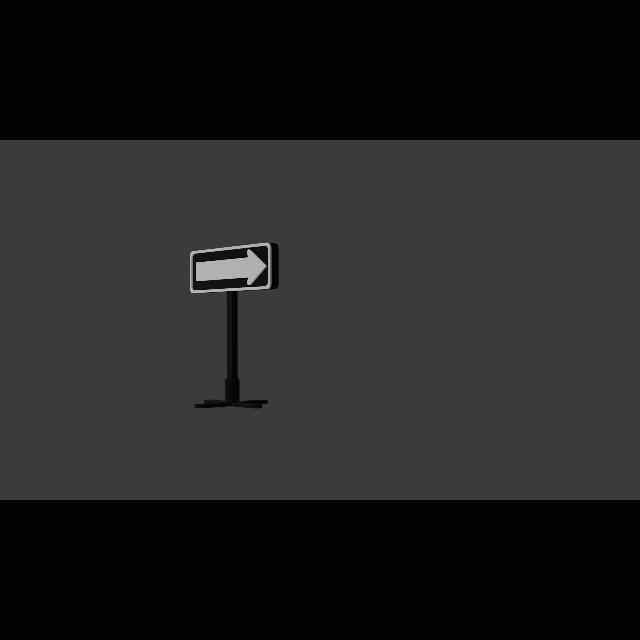sign_oneway_right: (190, 242, 276, 294)
